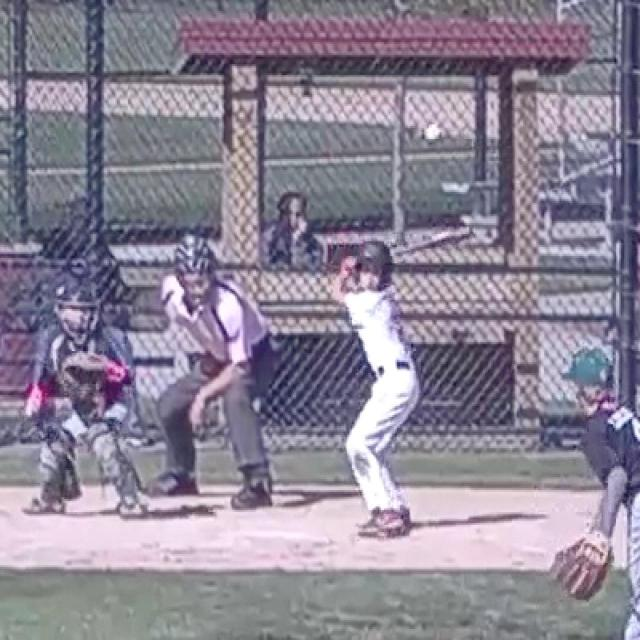baseball: (425, 125, 439, 139)
